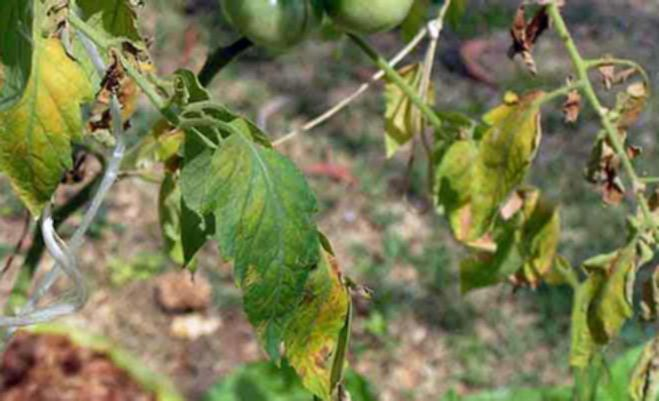Tomato mold leaf: (198, 133, 361, 401), (0, 23, 99, 236), (458, 91, 555, 234)
